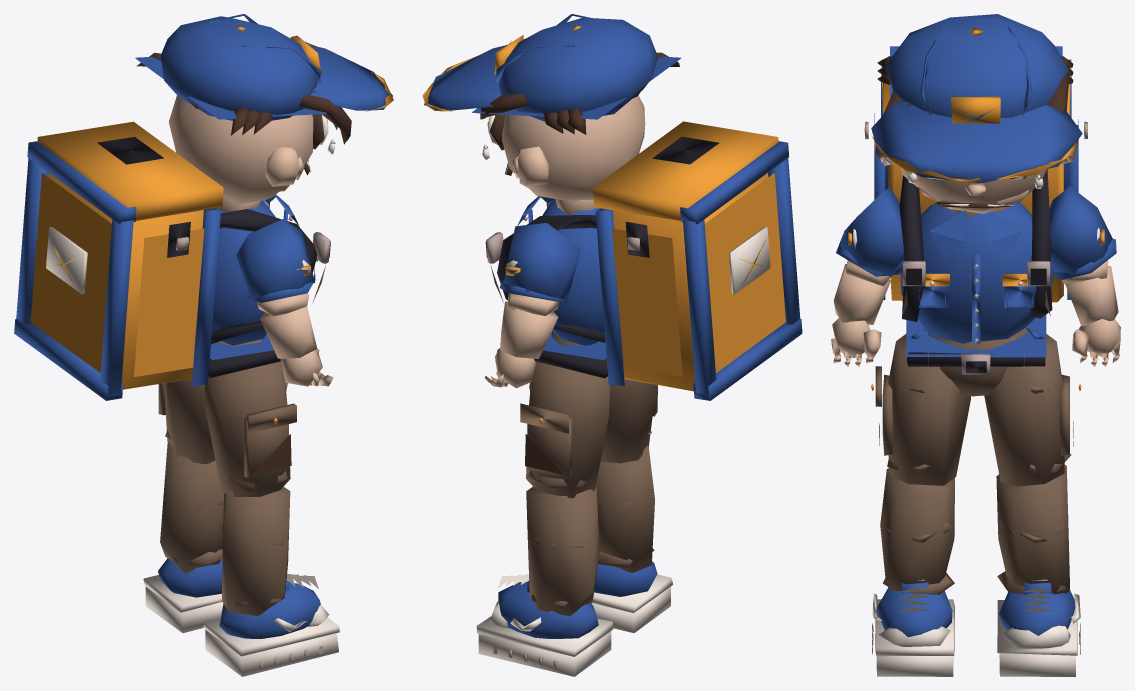
Rendered from model.sick.lod2.glb.
3 views of the same model, side by side, from view 1: azimuth 30°, elevation 25°; view 2: azimuth 150°, elevation 25°; view 3: azimuth 270°, elevation 25° (orthographic). The views are drawn at different scales.
Parts seen in each view (by area): view 1: torso__pal_schoolBusYellow, torso__pal_policeBlue, head__pal_policeBlue, head__pal_infectedSkin, legR__pal_asphalt, shinR__pal_asphalt, shinL__pal_asphalt, footR__pal_picketWhite, armR__pal_policeBlue, torso__pal_uiDark, legL__pal_asphalt, footR__pal_policeBlue (+11 smaller); view 2: torso__pal_schoolBusYellow, torso__pal_policeBlue, head__pal_policeBlue, head__pal_infectedSkin, legL__pal_asphalt, shinL__pal_asphalt, shinR__pal_asphalt, footL__pal_picketWhite, armL__pal_policeBlue, legR__pal_asphalt, torso__pal_uiDark, footL__pal_policeBlue (+11 smaller); view 3: head__pal_policeBlue, torso__pal_policeBlue, legR__pal_asphalt, legL__pal_asphalt, shinR__pal_asphalt, shinL__pal_asphalt, torso__pal_uiDark, footL__pal_picketWhite, armL__pal_policeBlue, footR__pal_picketWhite, armR__pal_policeBlue, head__pal_infectedSkin (+13 smaller).
Part boxes in pixels (bbox=[...]): torso__pal_schoolBusYellow: bbox=[30, 121, 317, 389]; torso__pal_policeBlue: bbox=[14, 141, 315, 400]; head__pal_policeBlue: bbox=[135, 14, 392, 120]; head__pal_infectedSkin: bbox=[169, 95, 313, 212]; legR__pal_asphalt: bbox=[205, 361, 296, 496]; shinR__pal_asphalt: bbox=[220, 470, 290, 616]; shinL__pal_asphalt: bbox=[160, 430, 224, 573]; footR__pal_picketWhite: bbox=[203, 574, 339, 676]; armR__pal_policeBlue: bbox=[236, 219, 314, 302]; torso__pal_uiDark: bbox=[97, 136, 330, 344]; legL__pal_asphalt: bbox=[158, 379, 215, 464]; footR__pal_policeBlue: bbox=[219, 580, 320, 638]; torso__pal_schoolBusYellow: bbox=[498, 121, 785, 391]; torso__pal_policeBlue: bbox=[517, 141, 802, 400]; head__pal_policeBlue: bbox=[424, 14, 680, 121]; head__pal_infectedSkin: bbox=[502, 95, 645, 215]; legL__pal_asphalt: bbox=[520, 361, 610, 498]; shinL__pal_asphalt: bbox=[526, 470, 599, 616]; shinR__pal_asphalt: bbox=[596, 431, 654, 572]; footL__pal_picketWhite: bbox=[476, 574, 613, 676]; armL__pal_policeBlue: bbox=[500, 223, 580, 303]; legR__pal_asphalt: bbox=[600, 379, 657, 463]; torso__pal_uiDark: bbox=[485, 136, 719, 342]; footL__pal_policeBlue: bbox=[498, 580, 598, 638]; head__pal_policeBlue: bbox=[871, 14, 1082, 182]; torso__pal_policeBlue: bbox=[874, 59, 1078, 357]; legR__pal_asphalt: bbox=[875, 334, 970, 542]; legL__pal_asphalt: bbox=[984, 334, 1069, 543]; shinR__pal_asphalt: bbox=[880, 458, 954, 594]; shinL__pal_asphalt: bbox=[996, 454, 1071, 594]; torso__pal_uiDark: bbox=[874, 113, 1078, 321]; footL__pal_picketWhite: bbox=[997, 579, 1080, 676]; armL__pal_policeBlue: bbox=[1049, 186, 1116, 280]; footR__pal_picketWhite: bbox=[872, 579, 954, 676]; armR__pal_policeBlue: bbox=[836, 187, 904, 276]; head__pal_infectedSkin: bbox=[874, 141, 1075, 217].
Bounding box in the file's own units: 0.774 × 1.41 × 0.5943.
